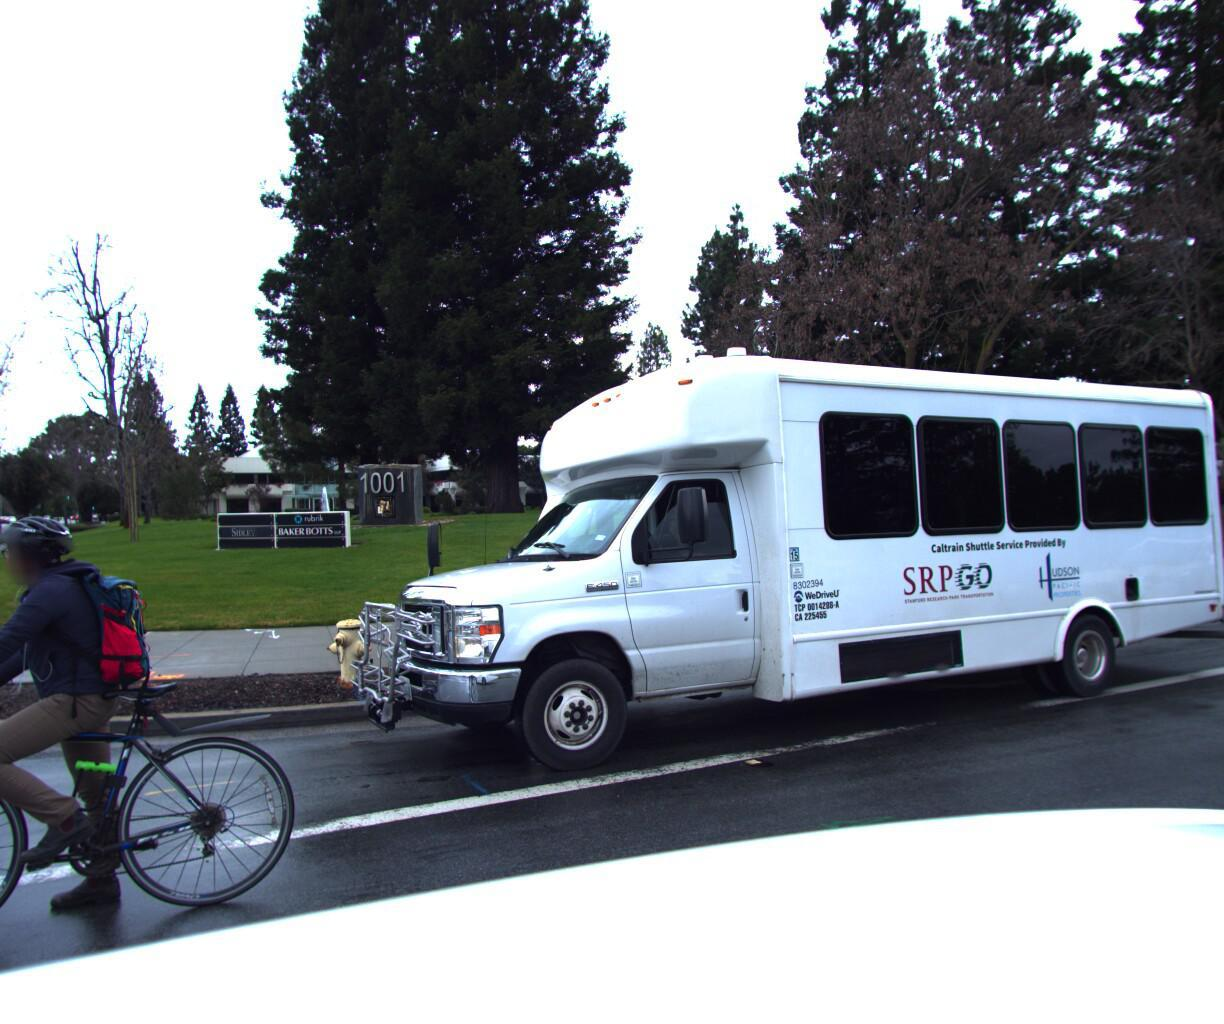bicycle: (0, 485, 328, 1024)
bus: (310, 304, 1224, 833)
